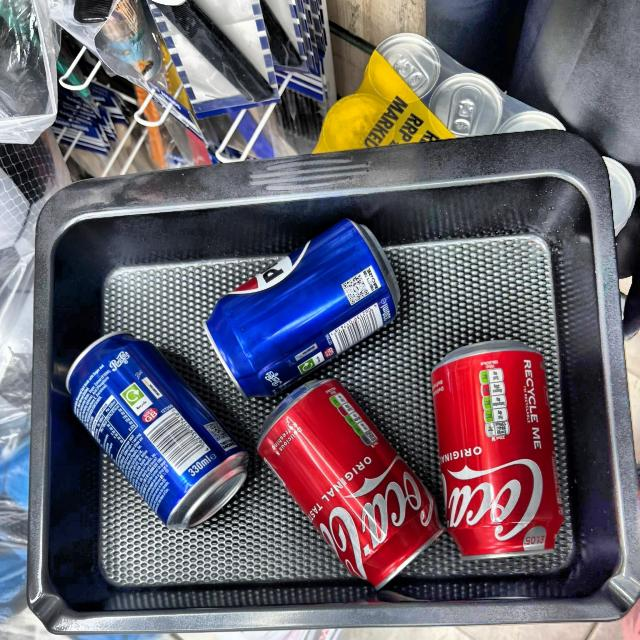coke-can: (271, 374, 437, 592), (433, 358, 567, 568)
pepsi-can: (73, 325, 246, 527), (202, 222, 392, 380)
